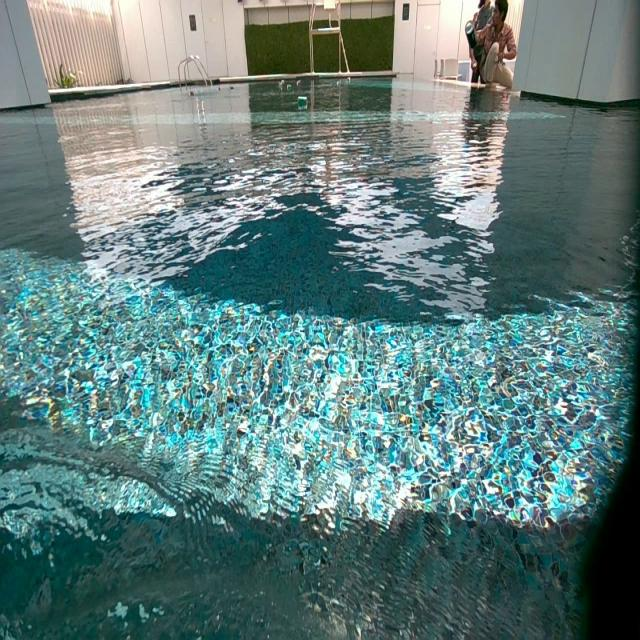Cans: (296, 96, 307, 108), (279, 79, 287, 90), (188, 90, 196, 98), (294, 79, 301, 86), (336, 82, 342, 86), (217, 87, 221, 91), (347, 78, 351, 82), (230, 87, 235, 90)
